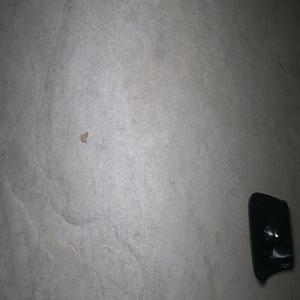LuggagePart: (247, 190, 294, 284)
